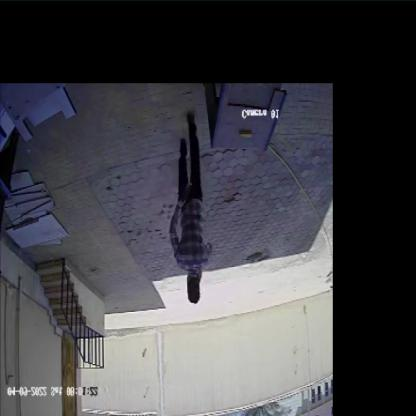handgun: (176, 165, 202, 221)
